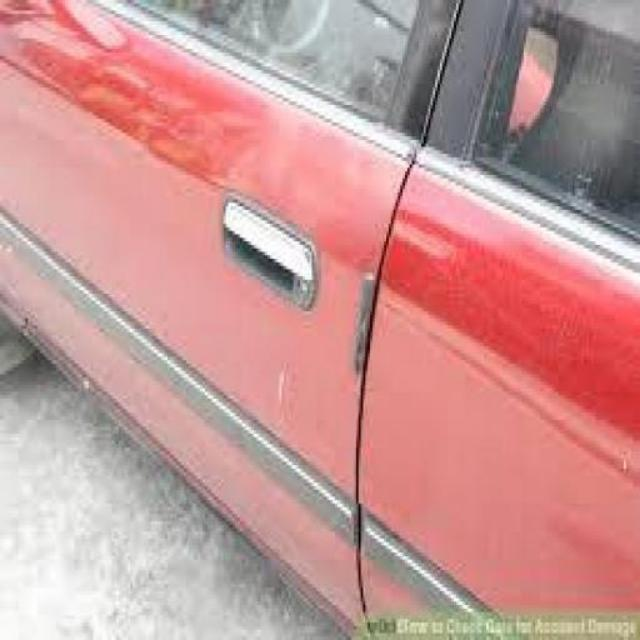rub: (242, 93, 418, 262)
